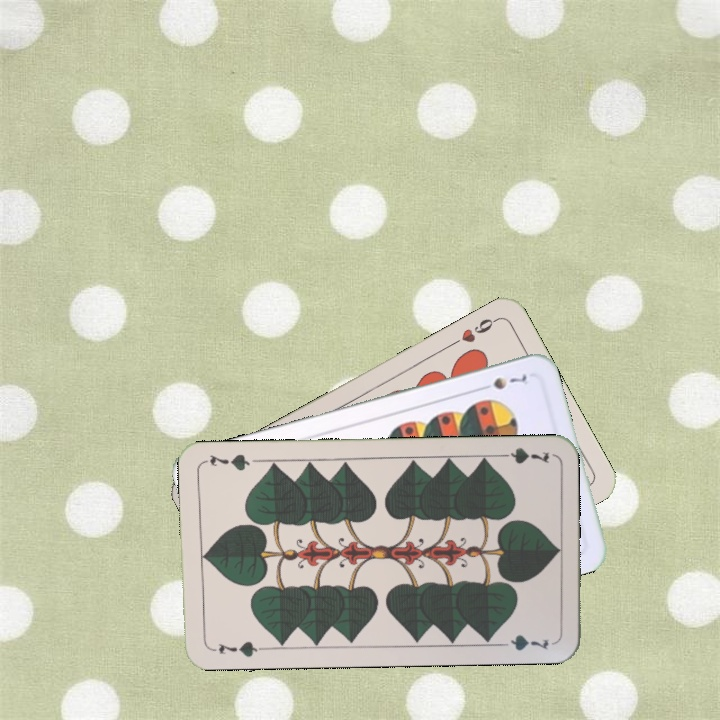G7: (493, 443, 552, 467), (206, 637, 266, 660)
H9: (447, 314, 501, 349)
S7: (474, 371, 532, 393)
